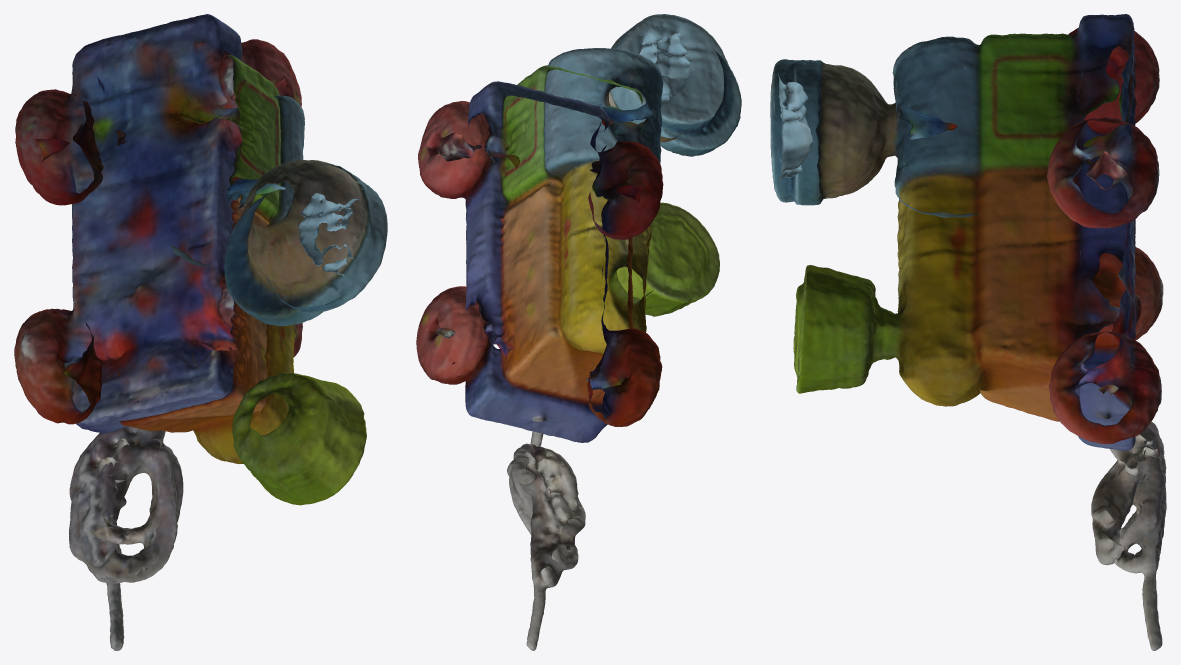
File: train.glb
3 renders of one model, left to right at view 1: azimuth 30°, elevation 25°; view 2: azimuth 150°, elevation 25°; view 3: azimuth 270°, elevation 25°, orthographic. The views are drawn at different scales.
Bounding box in the file's own units: 0.4292 × 1 × 0.581.
